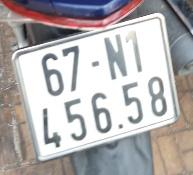1: (126, 28, 146, 77)
4: (39, 99, 63, 151)
5: (115, 79, 145, 128), (62, 94, 88, 141)
6: (89, 88, 115, 137), (40, 52, 66, 97)
8: (148, 73, 172, 119)
N: (102, 30, 128, 81), (62, 44, 83, 94)
